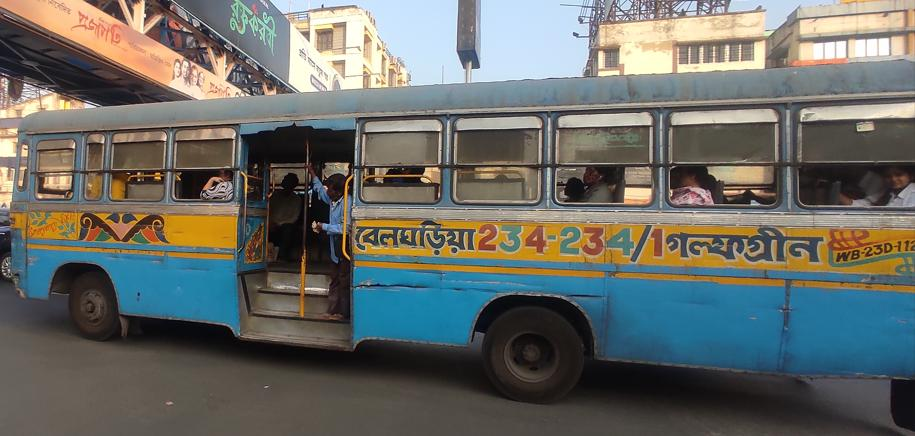Bus: (9, 60, 915, 417)
